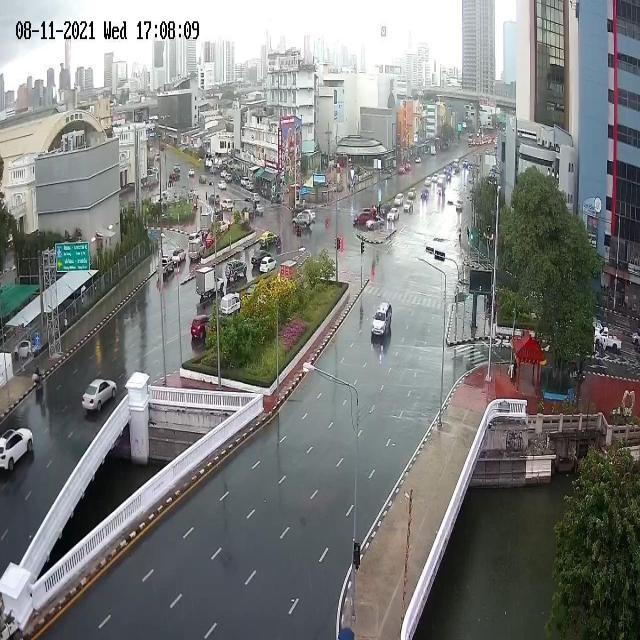Car: (0, 428, 33, 472), (82, 379, 117, 413), (371, 301, 392, 341), (219, 292, 241, 316), (190, 314, 210, 340), (225, 259, 247, 281), (251, 249, 274, 269), (259, 231, 279, 249), (15, 340, 32, 360), (205, 229, 221, 249), (259, 257, 277, 274), (353, 210, 372, 226), (292, 213, 311, 228), (171, 246, 186, 265), (366, 215, 384, 230), (297, 209, 316, 223), (187, 232, 201, 248), (220, 198, 233, 211), (387, 208, 400, 221), (252, 202, 264, 216), (380, 204, 392, 216), (216, 220, 227, 233), (394, 192, 404, 206), (208, 193, 220, 204), (251, 193, 261, 206), (213, 209, 223, 222), (404, 200, 414, 212), (632, 331, 640, 346), (424, 175, 433, 188), (240, 176, 250, 187), (420, 188, 429, 200), (219, 179, 227, 190), (408, 188, 416, 198), (220, 170, 228, 179), (414, 155, 422, 164), (188, 168, 195, 178), (173, 163, 180, 173), (246, 182, 254, 190), (432, 173, 438, 183), (225, 174, 232, 182), (155, 152, 160, 162)
Truck: (195, 266, 224, 301), (594, 327, 622, 355), (188, 237, 205, 262), (156, 255, 174, 277), (200, 212, 212, 237), (436, 175, 447, 195)
